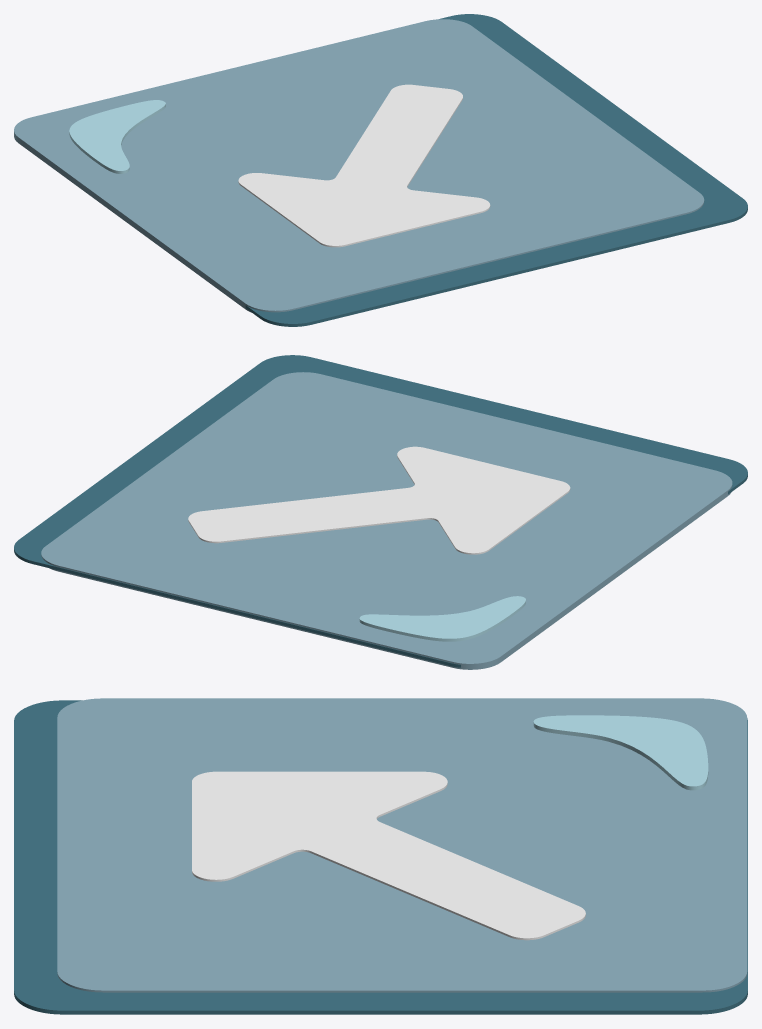
File: emoji_u2199.glb
The picture shows the model from 3 angles, top to bottom: view 1: azimuth 30°, elevation 25°; view 2: azimuth 150°, elevation 25°; view 3: azimuth 270°, elevation 25°; orthographic projection. The views are drawn at different scales.
Visible parts, largest first — view 1: emoji_u2199; view 2: emoji_u2199; view 3: emoji_u2199.
Boxes of the visible parts, x1,y1,x2,y2 form: emoji_u2199: (14,14,747,326); emoji_u2199: (14,355,747,669); emoji_u2199: (14,698,747,1014).
Bounding box in the file's own units: 0.0339 × 0.0008 × 0.0339.
